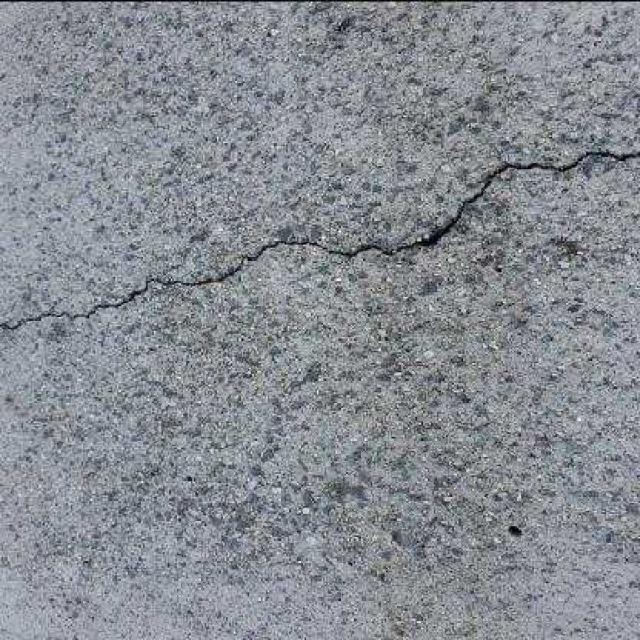D00: (0, 143, 640, 333)
